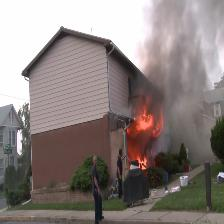fire: (120, 96, 179, 183)
smoke: (138, 0, 224, 113)
